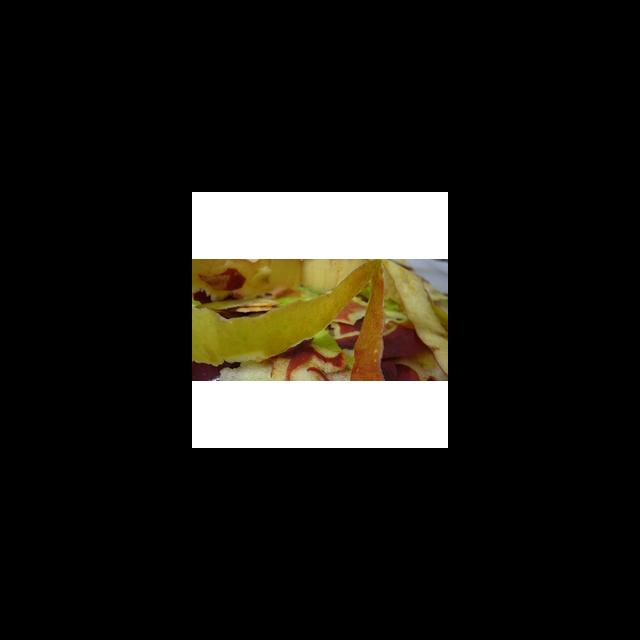food_waste: (193, 261, 448, 379)
